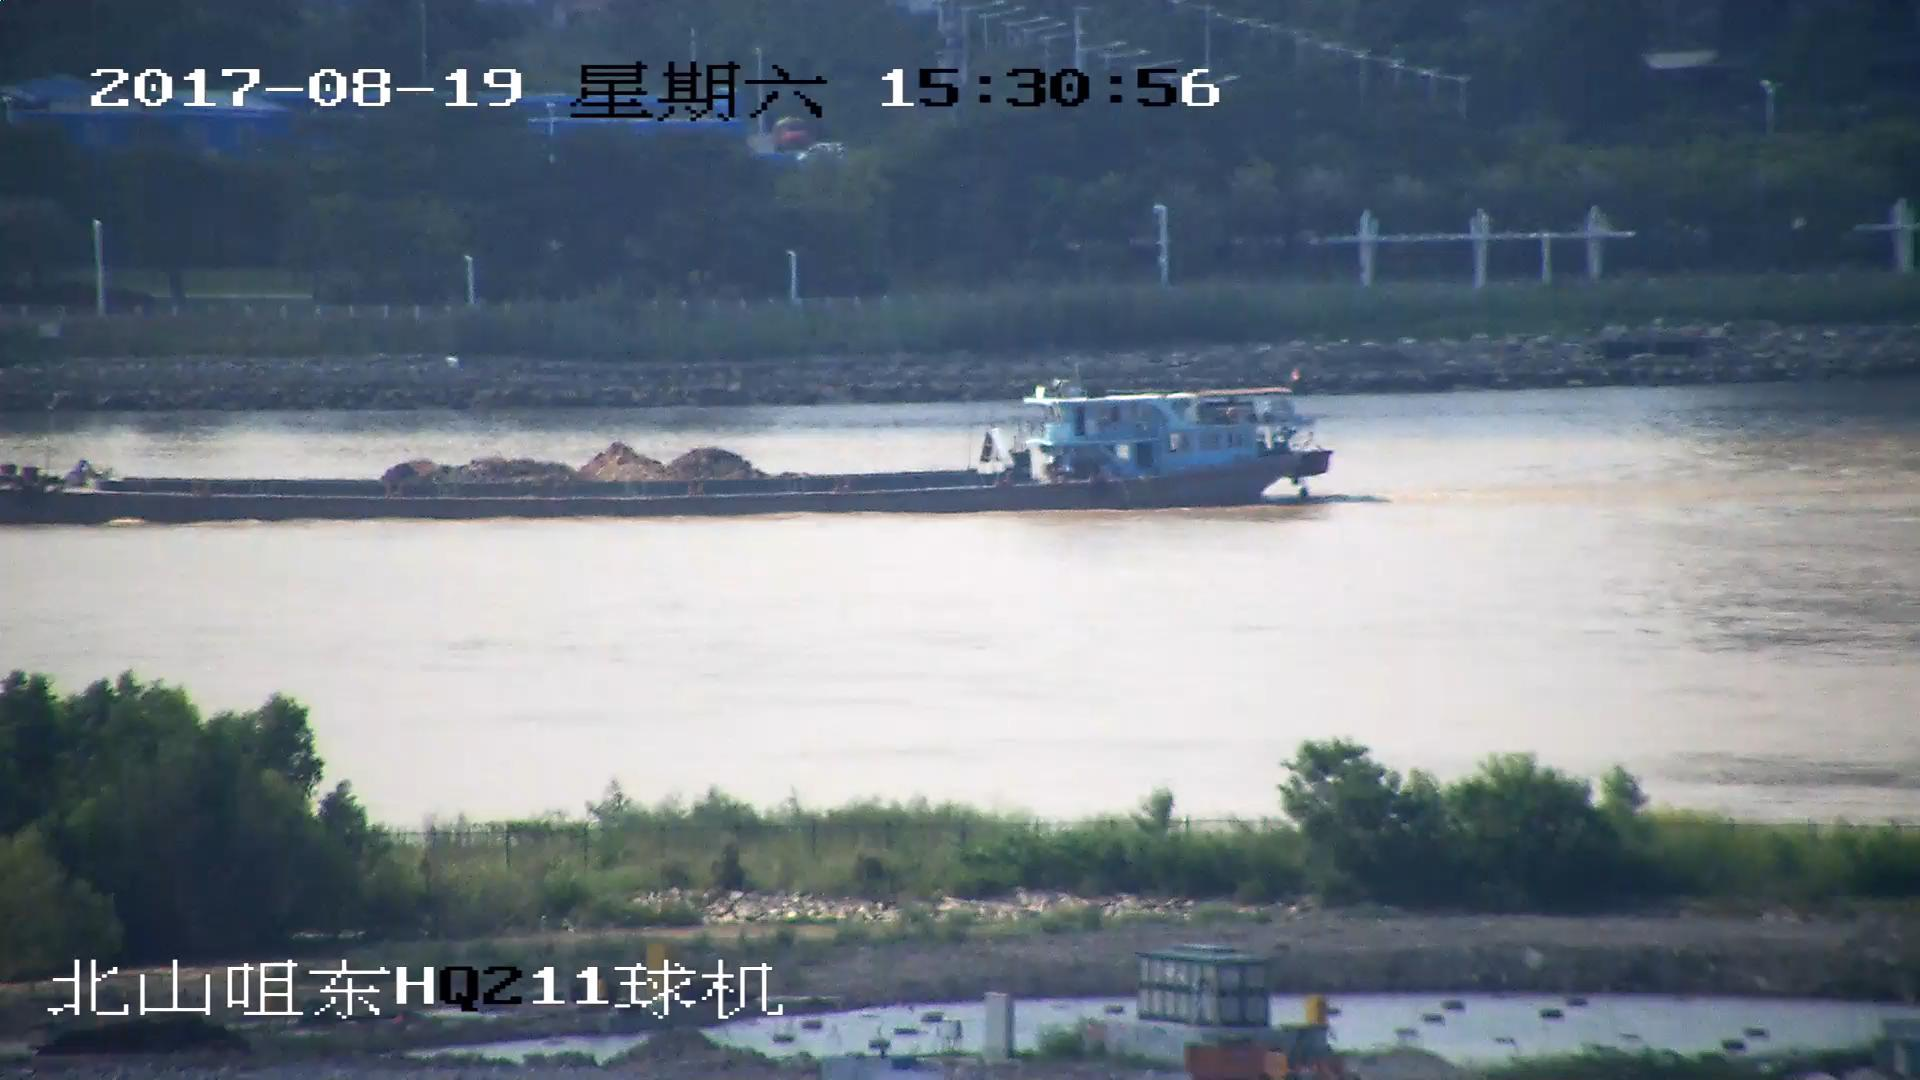Ship: (3, 375, 1337, 527)
